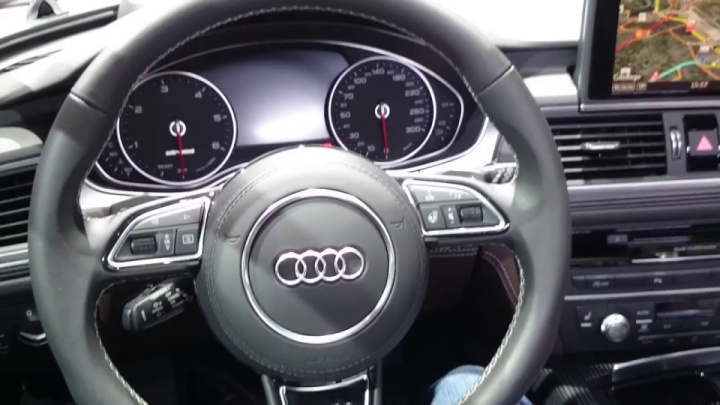audi: (270, 241, 370, 292)
